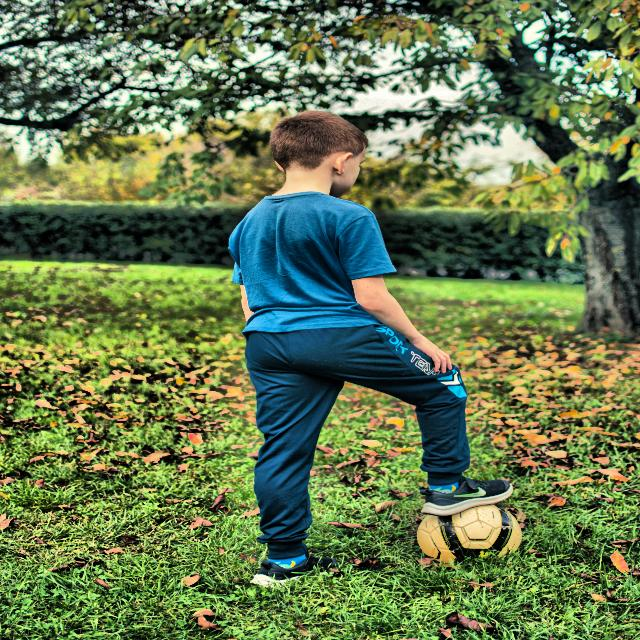Human: (232, 99, 518, 572)
